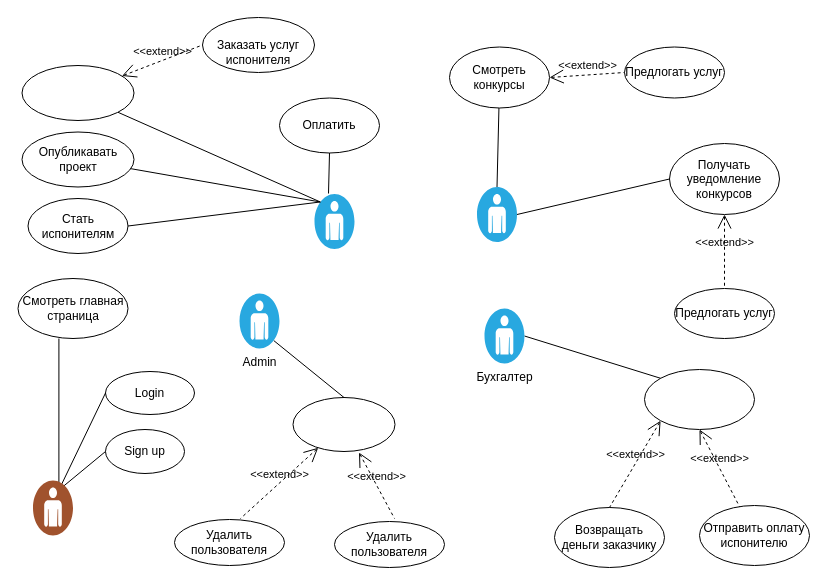
The diagram is 827 pixels wide and 585 high, and some of its shapes have lost their labels. Here are the shapes that lost their labels. From the top down, the centre of each, then its label:
pixel 77 92: Смотреть все испонителей
pixel 334 221: Заказчик
pixel 496 214: Исполнитель
pixel 699 399: Обработать оплату
pixel 343 424: Обработать пользователей
pixel 52 508: Гость
